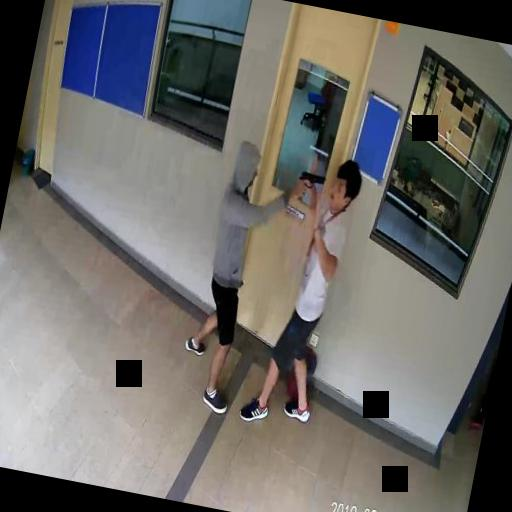Handgun: (296, 170, 324, 199)
